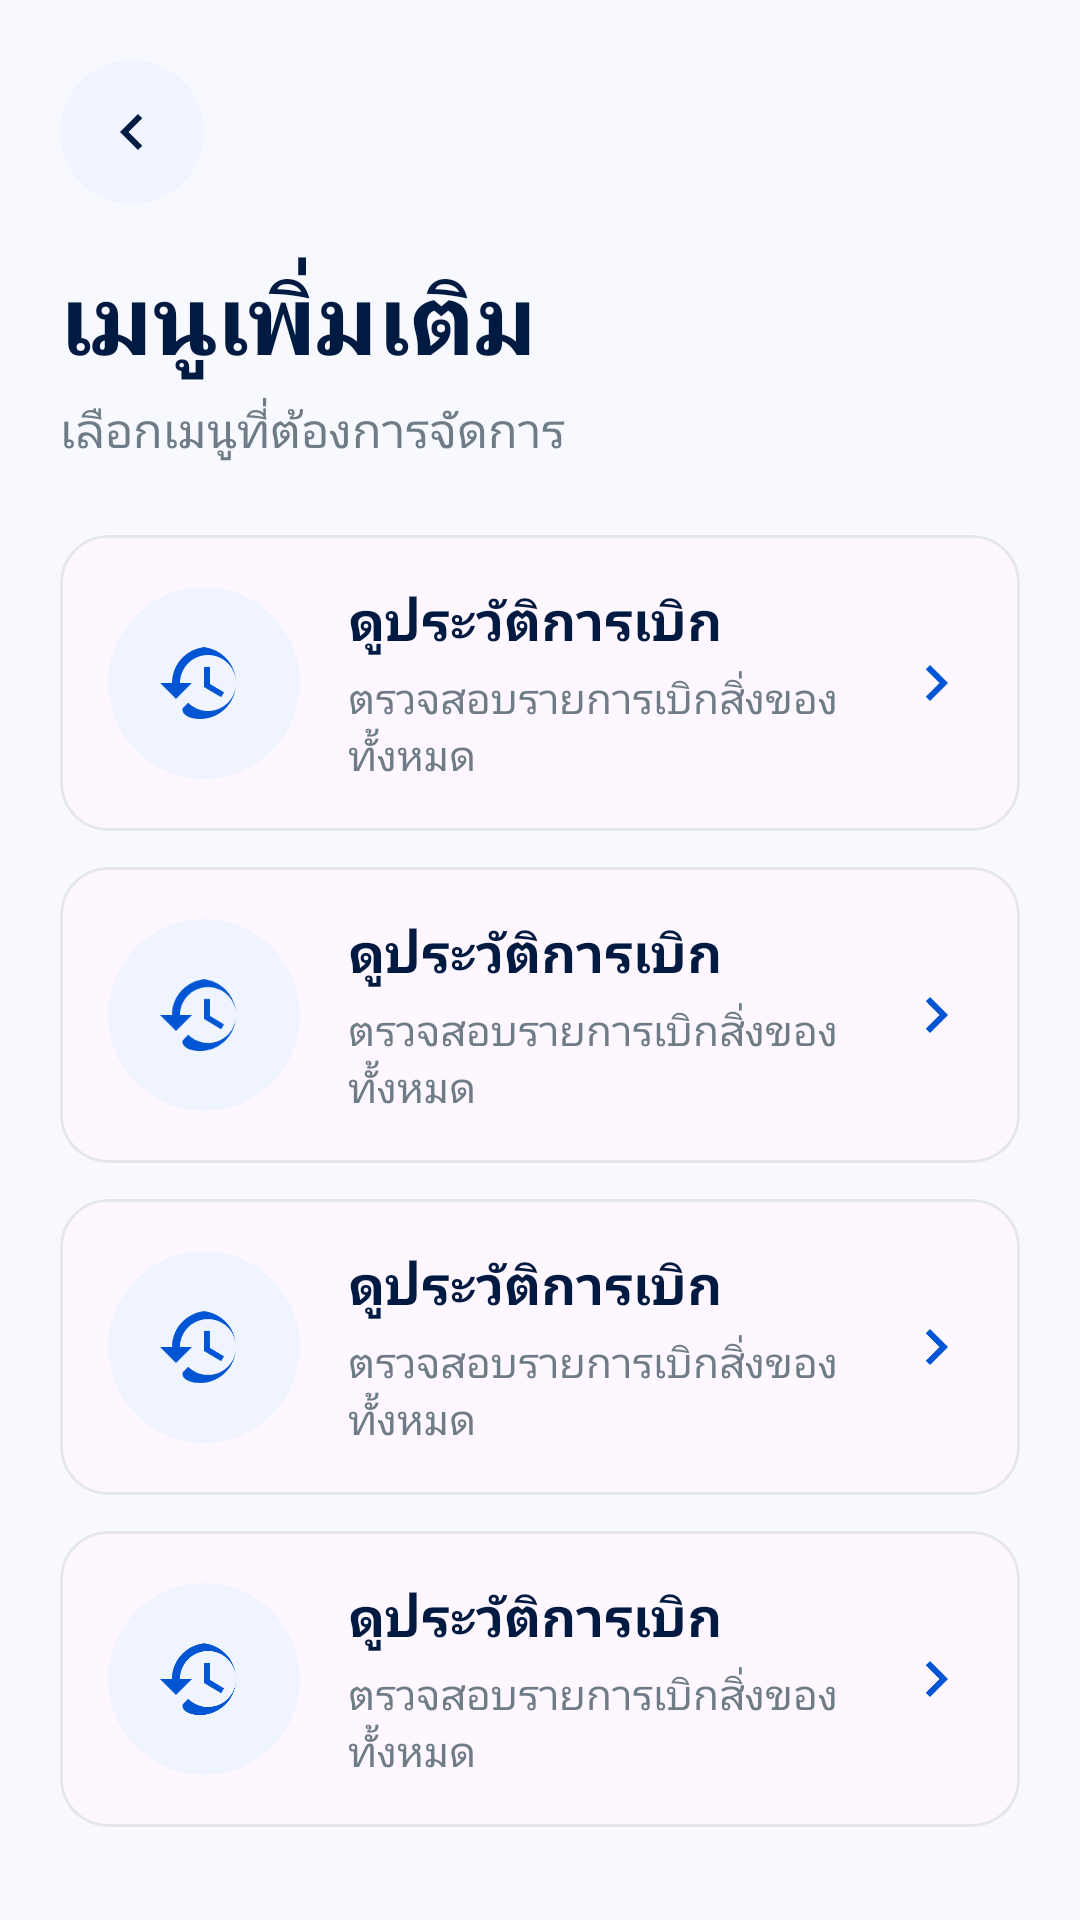

Where icons sit on this 1080px×1920px app screen, as [x1,y1,x2,y2]:
Back: [120,114,142,150]
chevron right: [925,665,948,701], [926,997,948,1033], [926,1329,948,1365], [926,1661,948,1697]
history: [160,647,236,719], [160,979,236,1051], [160,1311,236,1383], [160,1643,236,1715]
